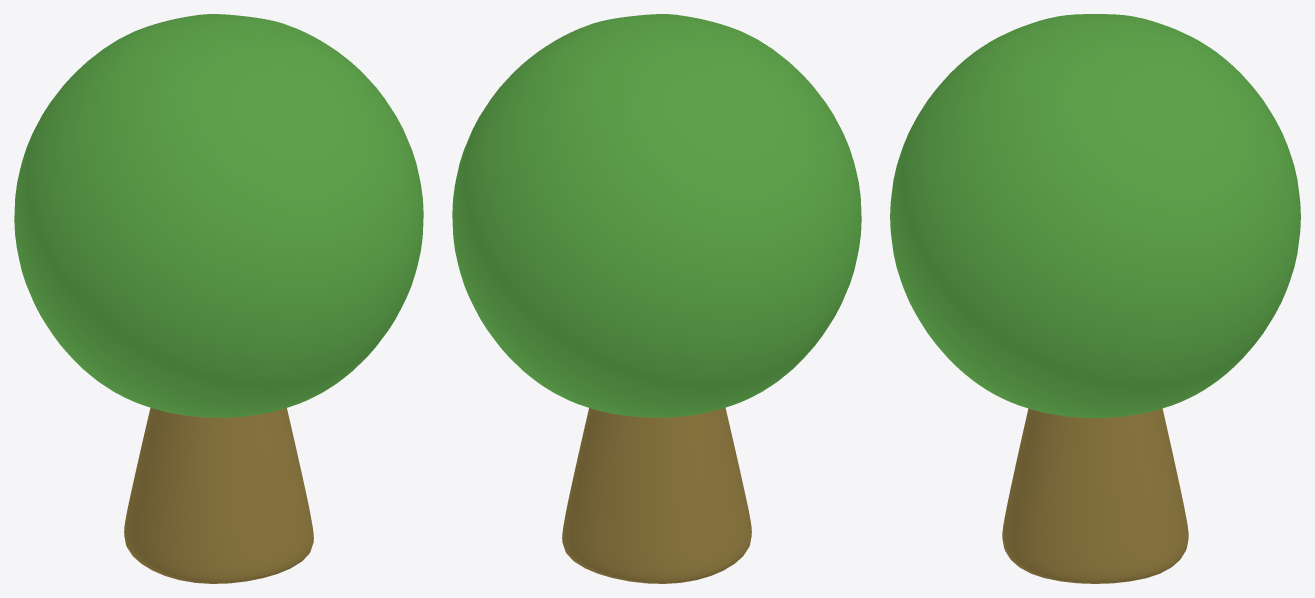
3 renders of one model, left to right at view 1: azimuth 30°, elevation 25°; view 2: azimuth 150°, elevation 25°; view 3: azimuth 270°, elevation 25°, orthographic.
Parts seen in each view (by area): view 1: Cube.001; view 2: Cube.001; view 3: Cube.001.
Part boxes in pixels (x1,y1,x2,y2): Cube.001: [14, 14, 423, 583]; Cube.001: [452, 14, 861, 583]; Cube.001: [890, 14, 1300, 583].
Size of the model in its own units: 1.44 by 1.98 by 1.44.
